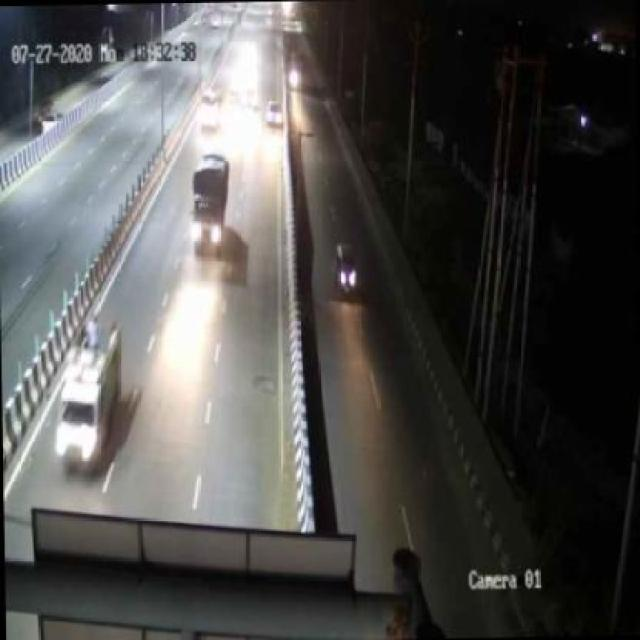car: (262, 96, 286, 130)
